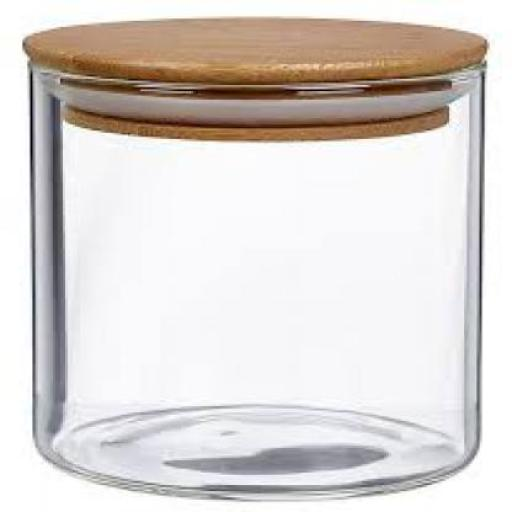glass: (26, 62, 480, 498)
